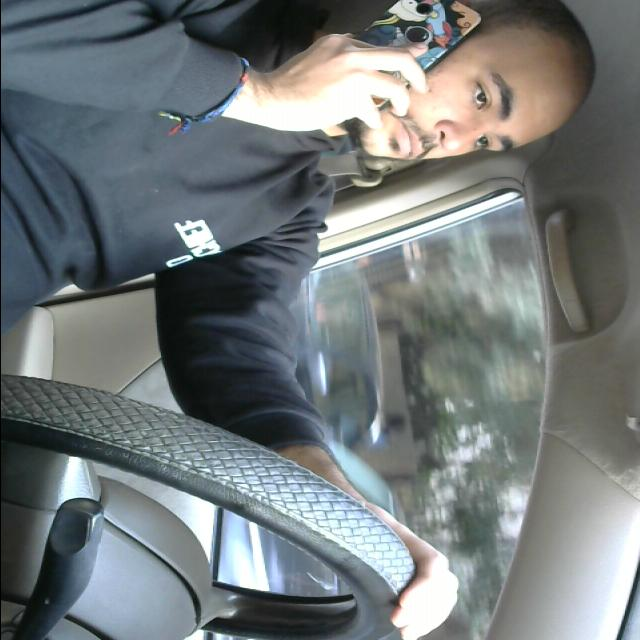mobile use: (327, 0, 483, 110)
